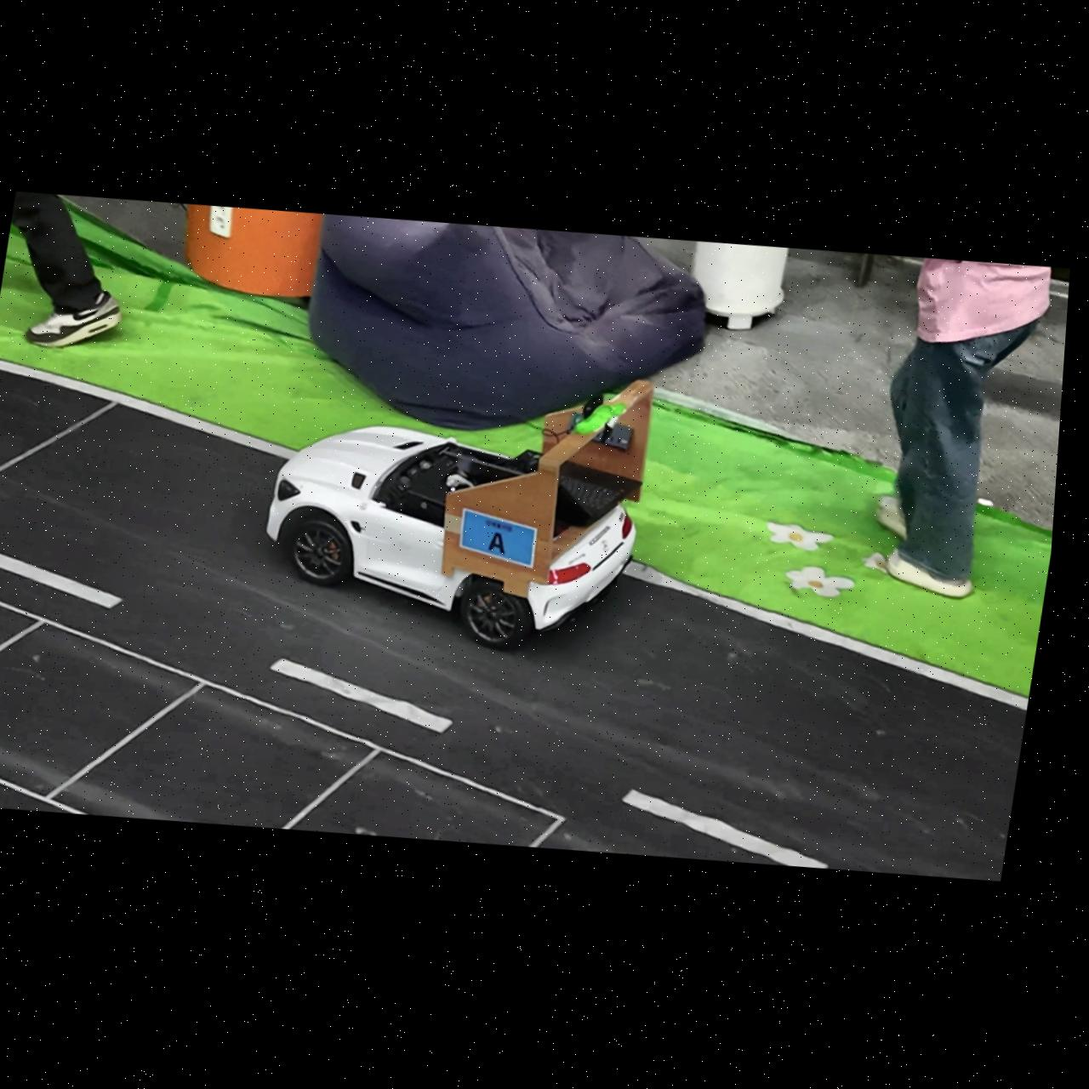broken_line: (622, 789, 829, 868), (270, 658, 452, 733), (0, 554, 123, 608)
